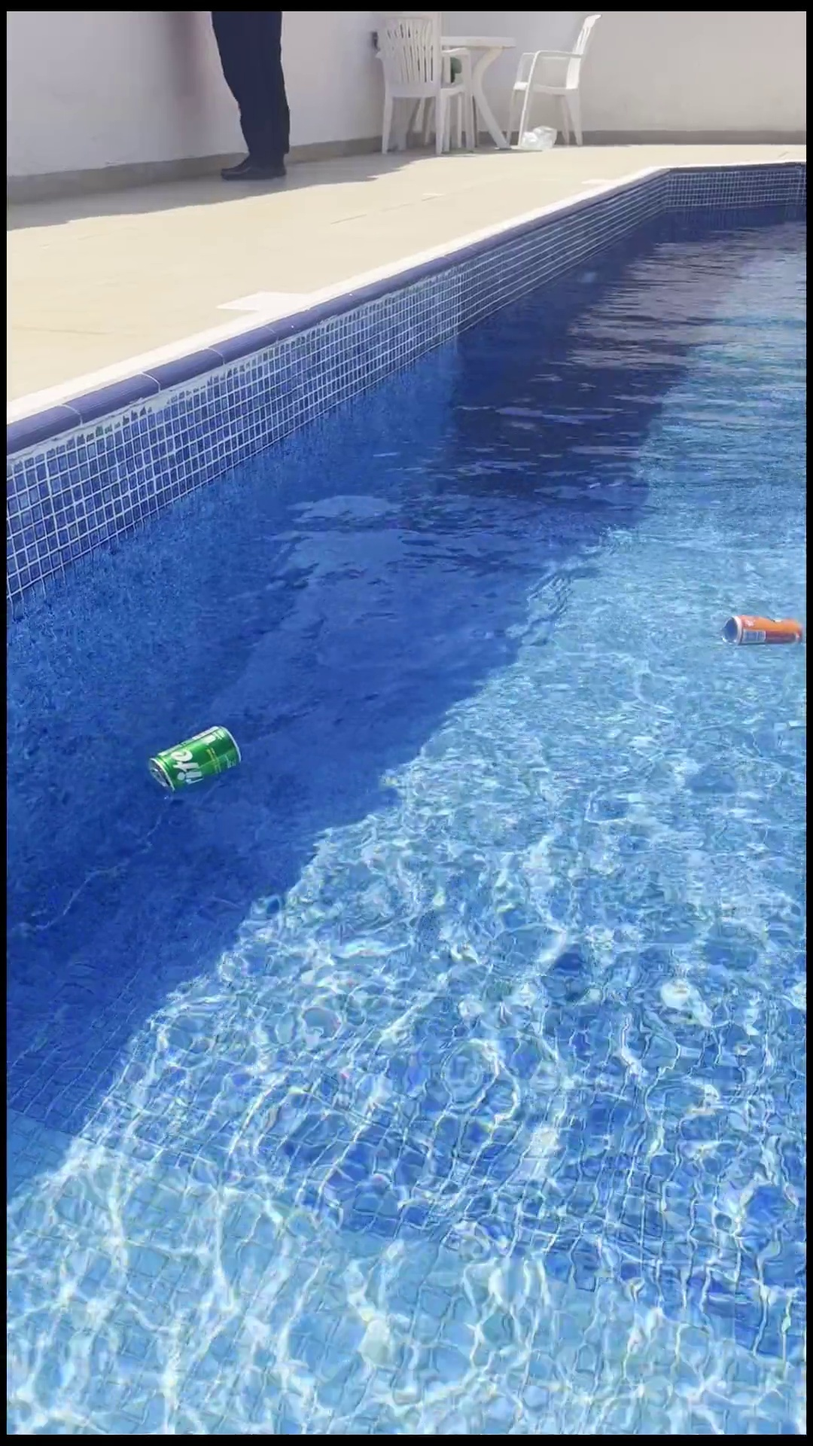debris: (145, 703, 243, 810), (717, 593, 802, 665)
